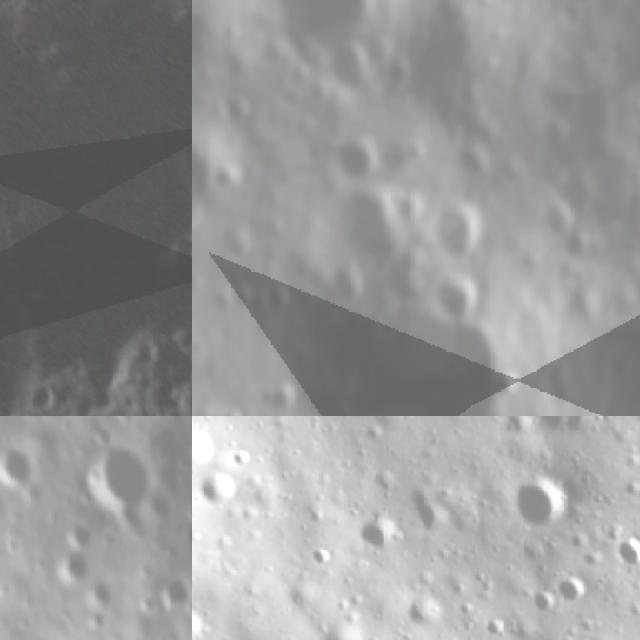crater: (324, 317, 507, 416), (66, 436, 172, 534), (326, 180, 404, 268), (260, 0, 369, 52), (511, 471, 576, 533), (420, 198, 478, 266), (322, 126, 379, 194), (0, 424, 49, 502), (323, 41, 378, 104), (402, 482, 453, 534), (433, 272, 479, 328), (526, 198, 576, 247), (355, 511, 404, 556), (194, 468, 242, 513), (192, 420, 225, 480), (402, 592, 451, 632), (216, 83, 254, 131), (214, 276, 252, 322), (54, 543, 92, 587), (260, 373, 298, 416), (156, 570, 192, 613), (552, 573, 593, 608), (85, 570, 122, 608), (534, 416, 595, 436), (316, 618, 368, 640), (612, 535, 640, 570), (211, 391, 250, 416), (266, 282, 293, 317), (192, 603, 214, 640), (532, 588, 560, 616), (559, 0, 602, 12), (629, 485, 640, 520)
